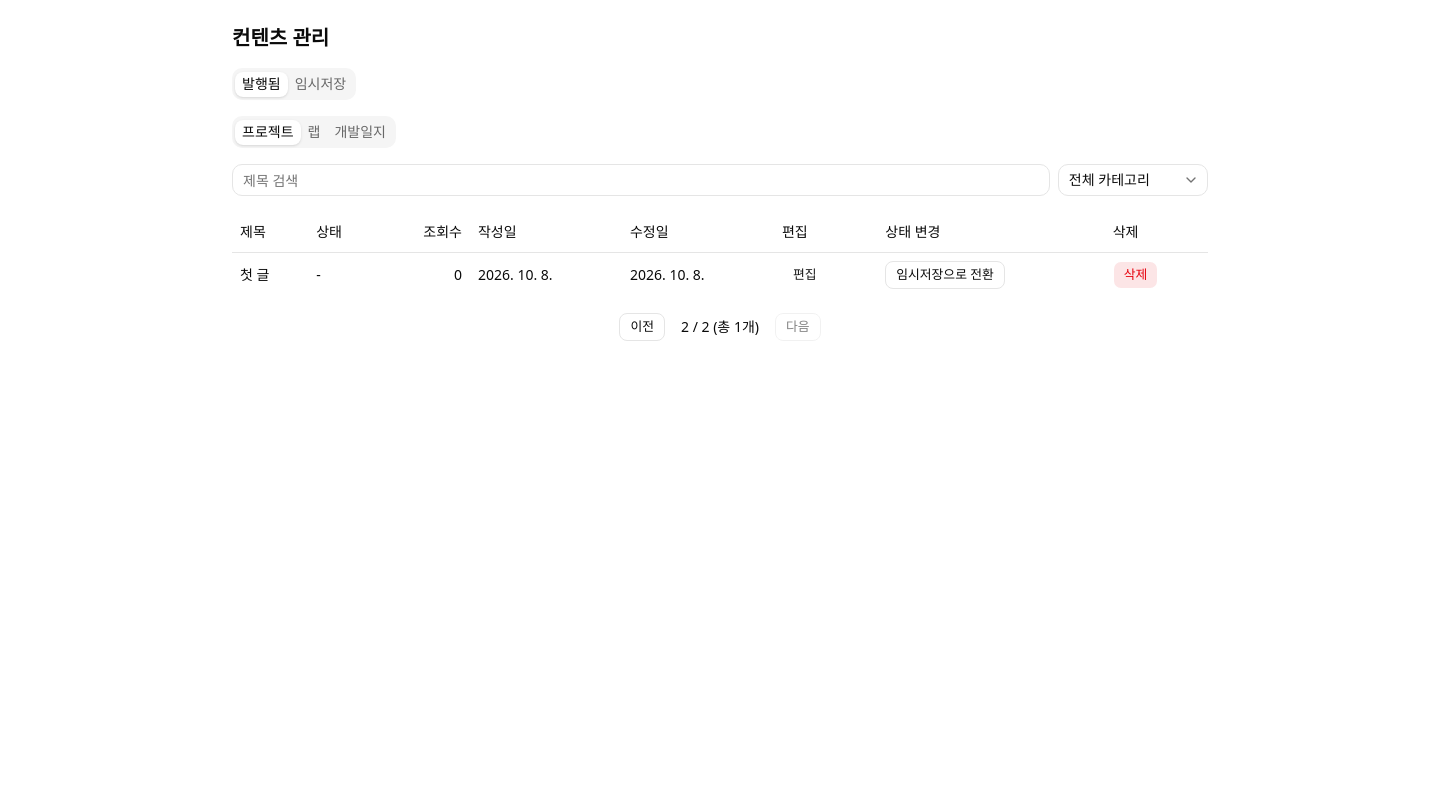
Scenario: PostListPage 글 삭제 › 정상 › 2쪽의 마지막 글을 삭제하면 page 1로 한 번 조회하고 옛 page 2 재조회는 없으며 이전 페이지 목록이 보여야 한다
This screenshot has width=1440, height=810.
Expected: the text "첫 글" is shown, [232,252,308,296]
What coordinates should you click on to do the following:
click the button "삭제"
I would click on:
 (1135, 274)
Its box is [1113,260,1158,288].
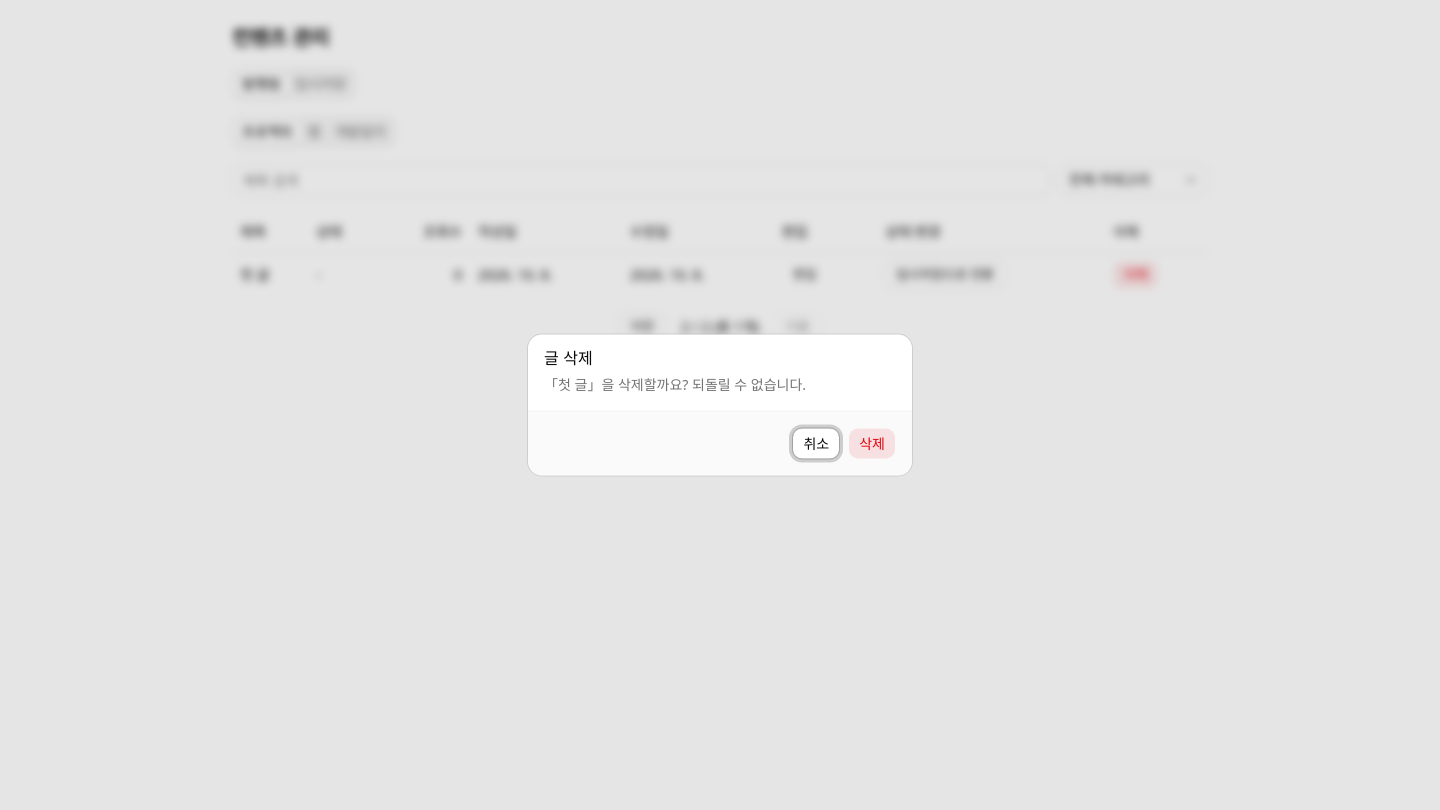
What coordinates should you click on to do the following:
click the button "삭제"
I would click on:
 (872, 444)
Its box is [848,428,896,460].
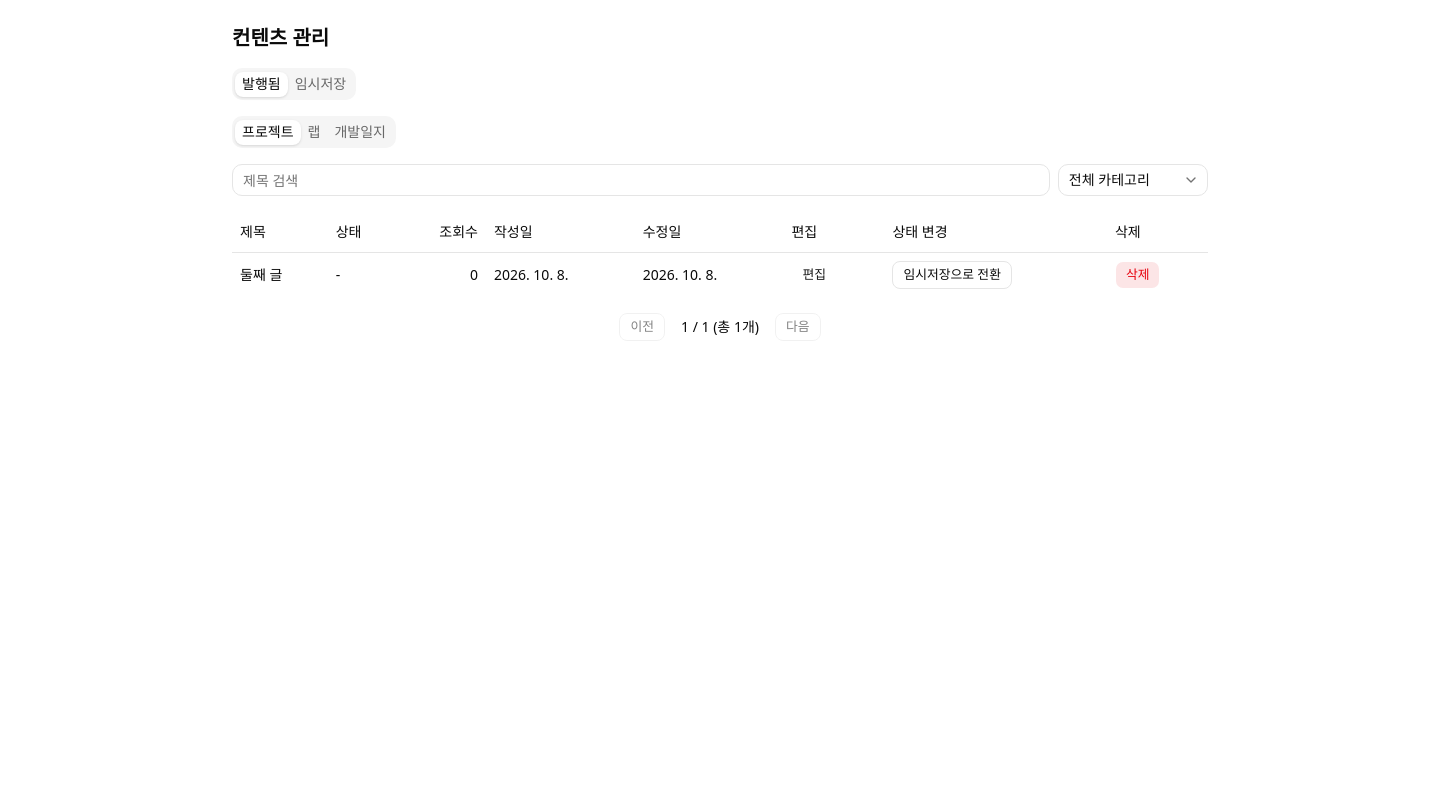
Expected: the text "둘째 글" is shown, [232,252,328,296]
Expected: the text "첫 글" is gone
